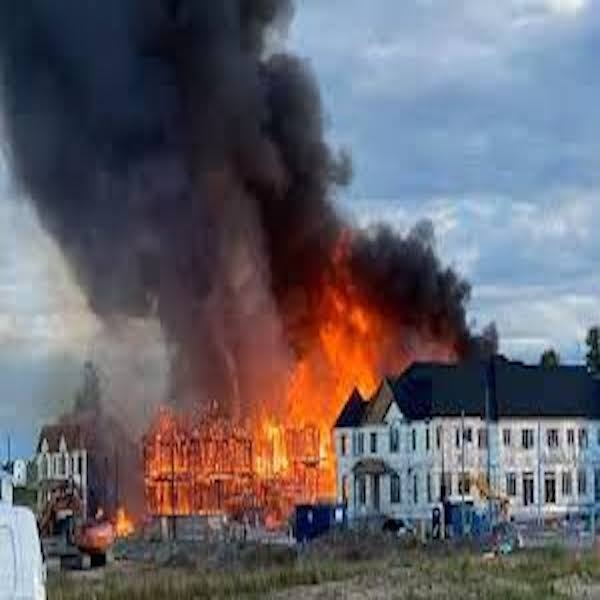fire: (252, 246, 378, 396), (256, 403, 338, 490), (152, 451, 190, 511)
